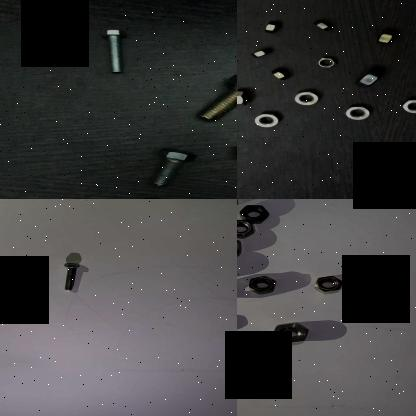Bolts: (95, 20, 144, 82), (141, 146, 205, 190), (189, 74, 237, 125), (56, 260, 87, 291), (0, 275, 16, 309)
NUTS: (350, 65, 390, 88), (274, 320, 312, 344), (314, 272, 346, 294), (237, 202, 274, 220), (248, 272, 280, 292), (252, 108, 280, 130), (342, 100, 371, 120), (294, 86, 321, 106), (374, 26, 398, 46), (250, 44, 277, 60), (266, 67, 294, 81), (314, 55, 342, 69), (260, 18, 284, 34), (310, 18, 338, 31), (237, 216, 255, 236), (237, 87, 251, 106), (400, 97, 416, 113)
